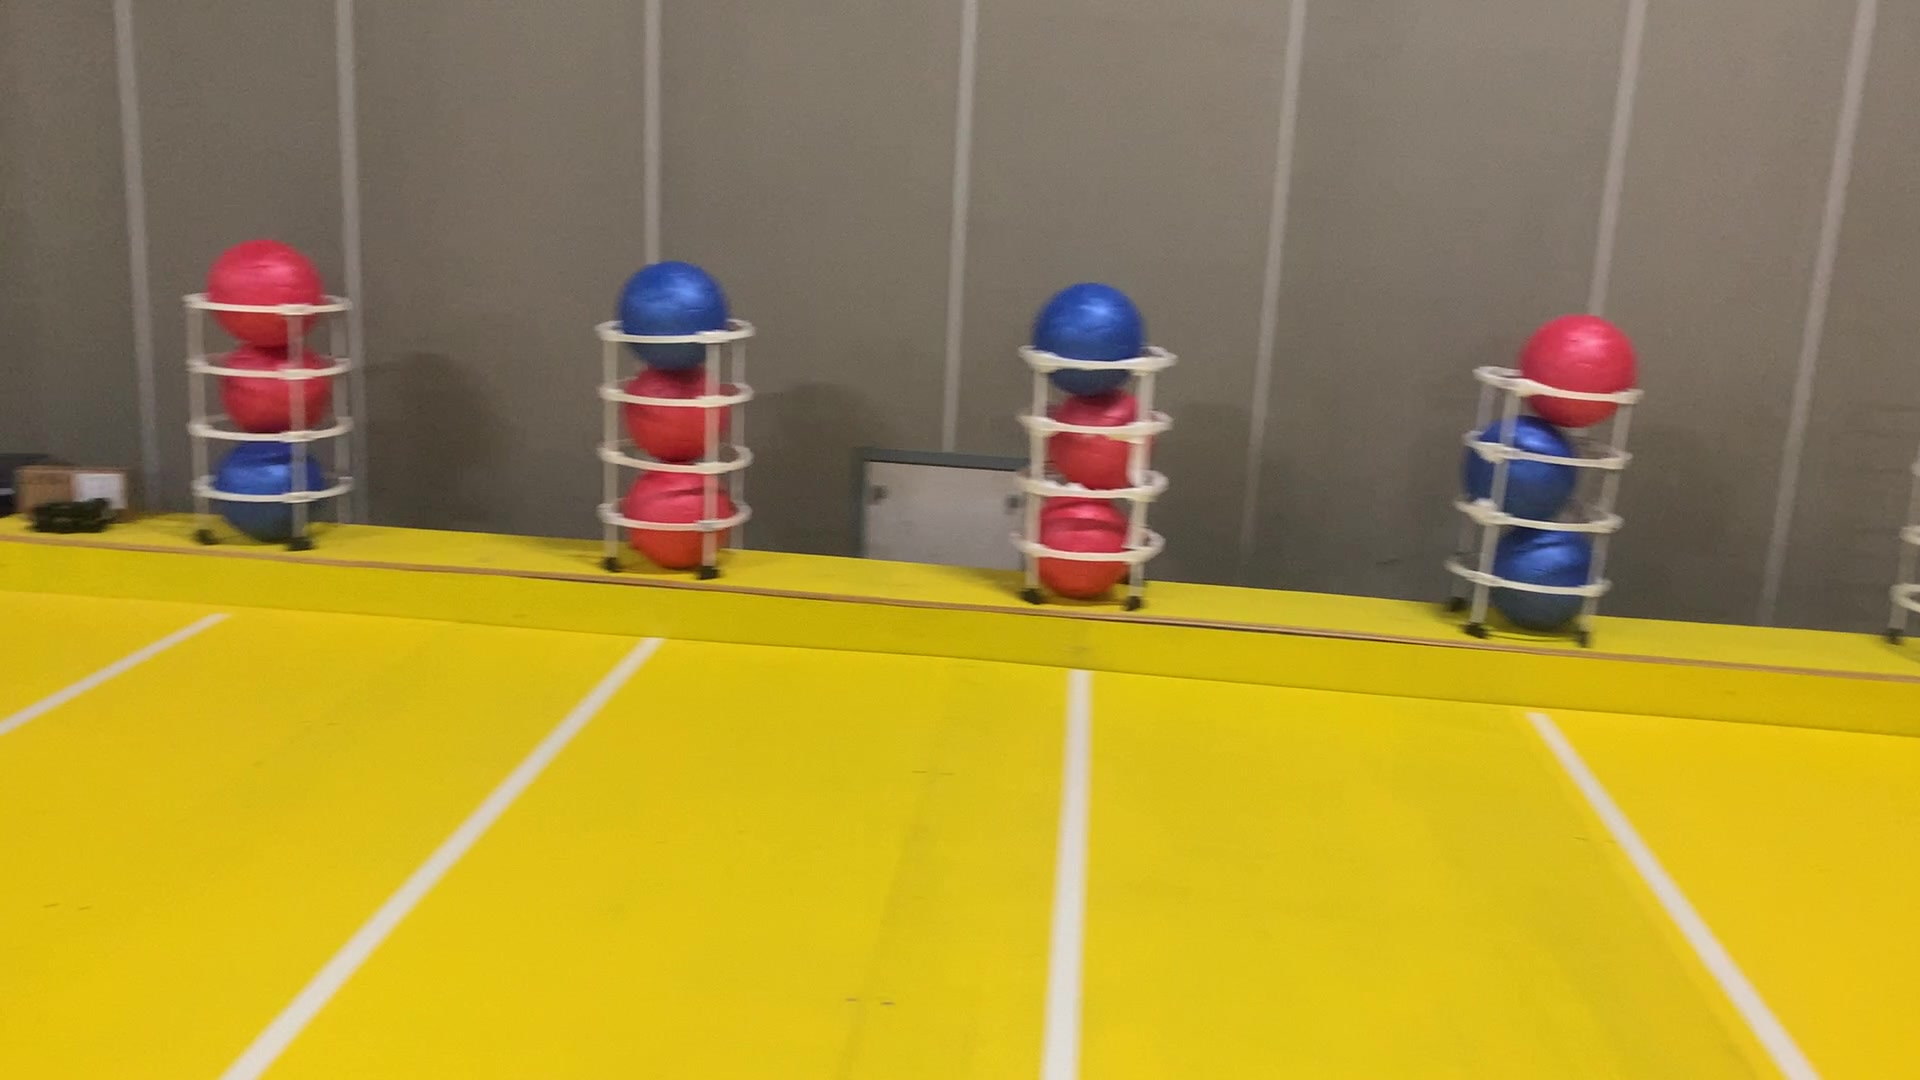blue: (1023, 273, 1149, 396), (1461, 405, 1581, 526), (1472, 518, 1601, 628), (612, 257, 735, 368), (207, 434, 327, 543)
red: (1513, 307, 1644, 427), (618, 459, 737, 571), (1035, 392, 1163, 493), (207, 235, 320, 339), (625, 364, 737, 462), (1030, 496, 1135, 599), (225, 336, 332, 434)
